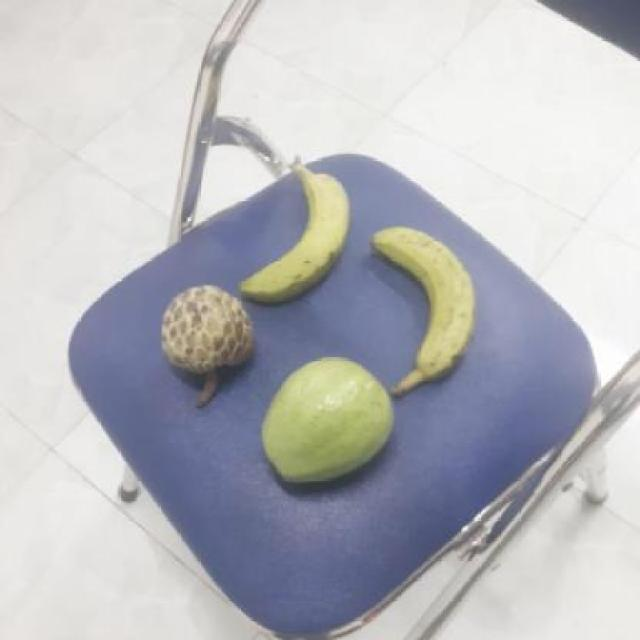banana: (367, 227, 485, 382), (242, 166, 359, 300)
guava: (261, 358, 399, 485)
sugar apple: (159, 285, 259, 400)
